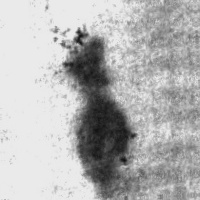patches: (69, 87, 132, 187), (58, 31, 113, 95)
